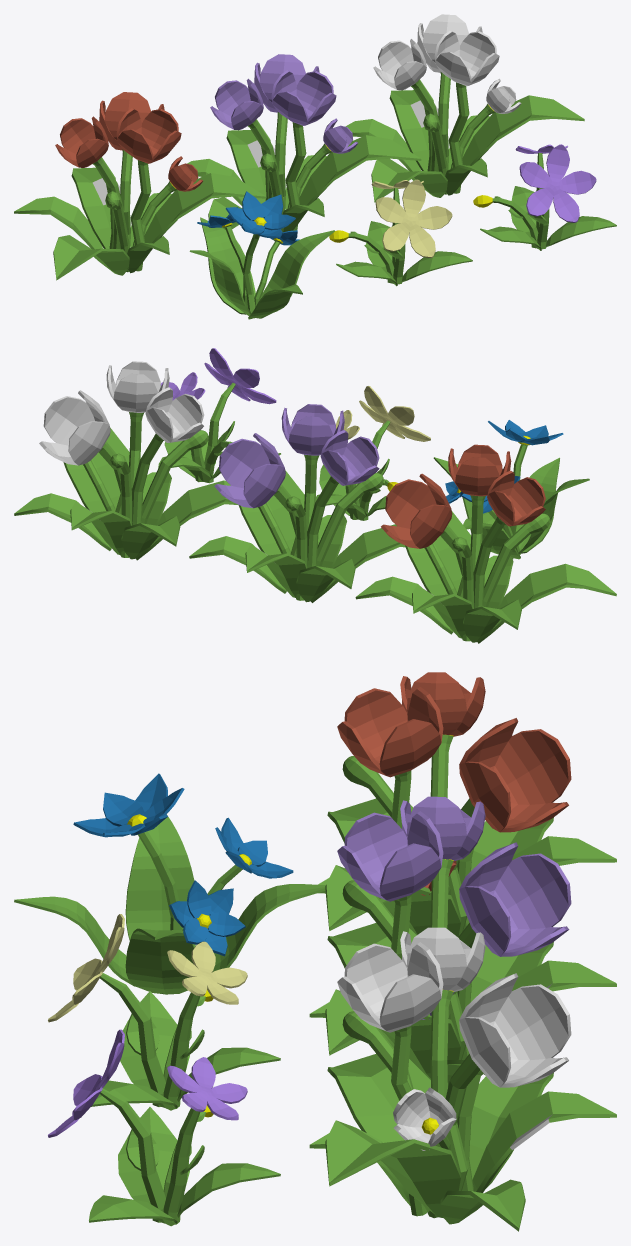
Rendered from flower.fbx.
3 views of the same model, one above another, from view 1: azimuth 30°, elevation 25°; view 2: azimuth 150°, elevation 25°; view 3: azimuth 270°, elevation 25° (orthographic). The views are drawn at different scales.
Visible parts, largest first — view 1: flower2, flower3, flower1, flower4, flower6, flower5; view 2: flower2, flower3, flower1, flower4, flower6, flower5; view 3: flower3, flower1, flower2, flower4, flower6, flower5.
Boxes of the visible parts, bbox=[...] form: flower2: bbox=[14, 92, 266, 280]; flower3: bbox=[345, 14, 584, 202]; flower1: bbox=[187, 54, 421, 231]; flower4: bbox=[189, 191, 334, 319]; flower6: bbox=[473, 144, 616, 250]; flower5: bbox=[329, 179, 472, 286]; flower2: bbox=[355, 444, 616, 643]; flower3: bbox=[14, 361, 238, 560]; flower1: bbox=[189, 404, 405, 602]; flower4: bbox=[433, 420, 589, 559]; flower6: bbox=[158, 348, 280, 483]; flower5: bbox=[315, 386, 430, 520]; flower3: bbox=[309, 927, 616, 1231]; flower1: bbox=[309, 796, 616, 1087]; flower2: bbox=[318, 672, 616, 945]; flower4: bbox=[14, 773, 325, 994]; flower6: bbox=[48, 1029, 280, 1226]; flower5: bbox=[48, 914, 280, 1110].
Bounding box in the file's own units: 419 × 127 × 252.
